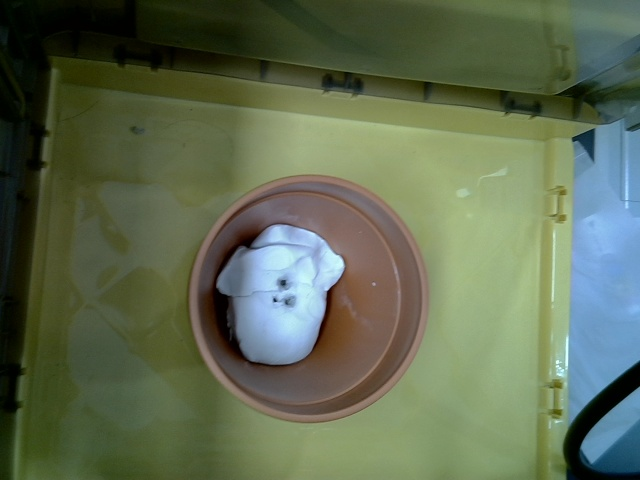화분: (188, 173, 432, 423)
